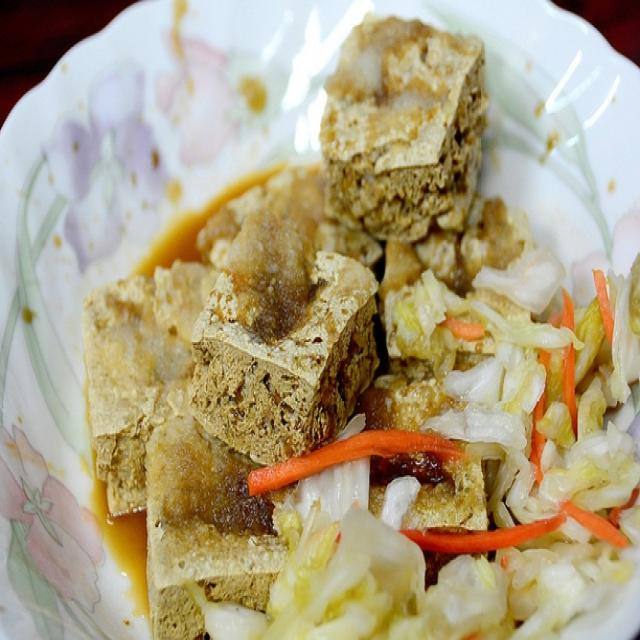豆腐料理: (33, 8, 628, 630)
